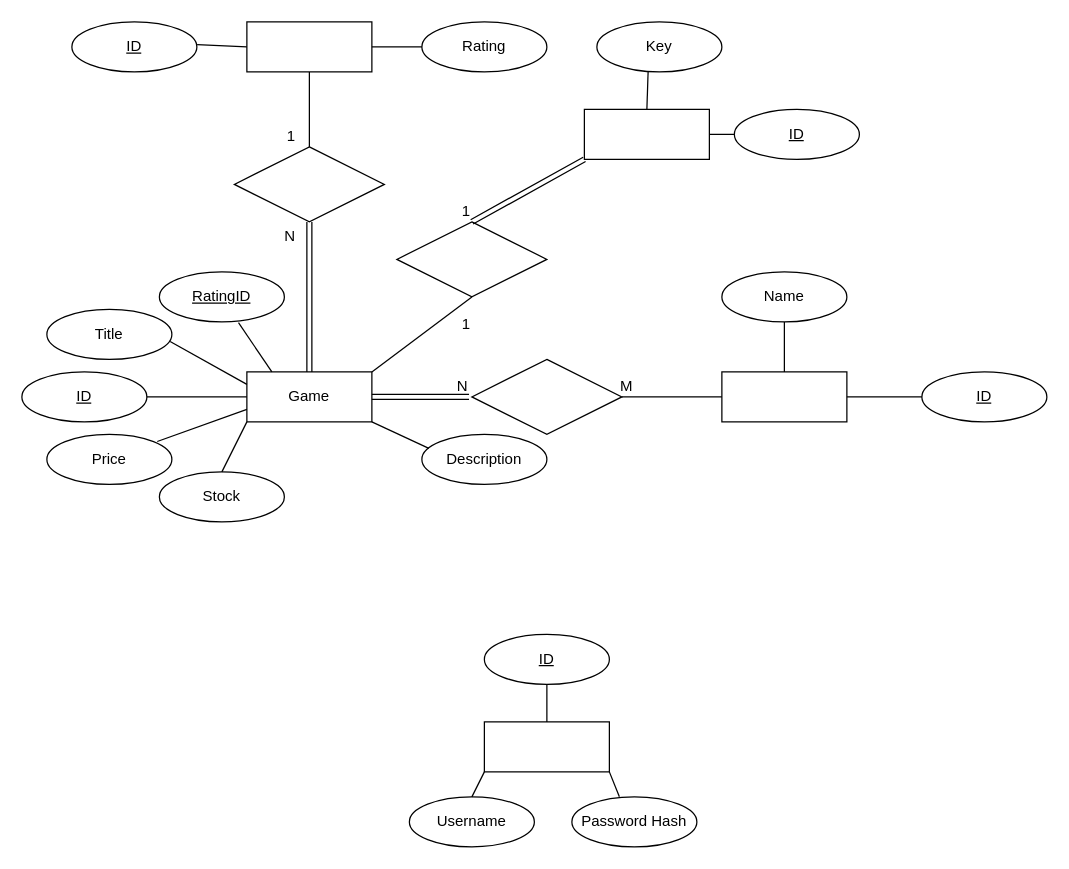
Image size: 1069x869. Some labels were removed from this diagram. The box of each missing label's shape, as (x1, y1, x2, y2) in pixels:
Age Rating: (246, 21, 372, 72)
belongs_to: (471, 358, 622, 434)
Genre: (721, 371, 847, 422)
has: (396, 221, 547, 297)
Image: (583, 108, 709, 159)
is_rated: (233, 146, 384, 222)
User: (483, 721, 609, 772)
